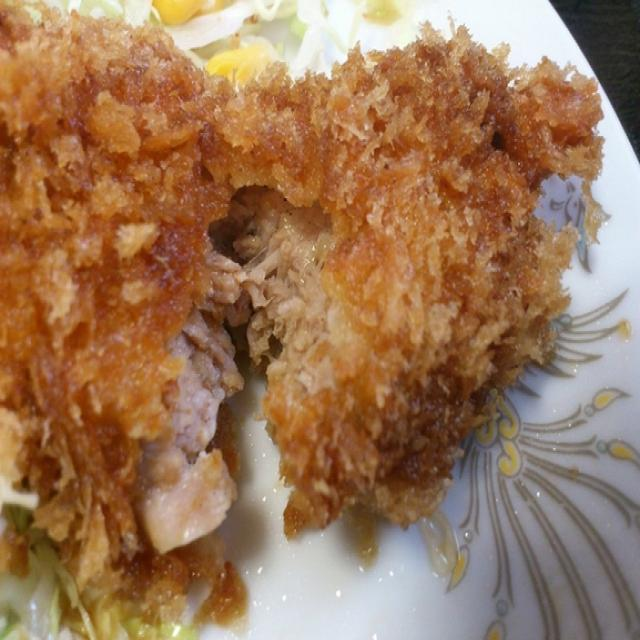牛肉菜式: (1, 18, 611, 602)
